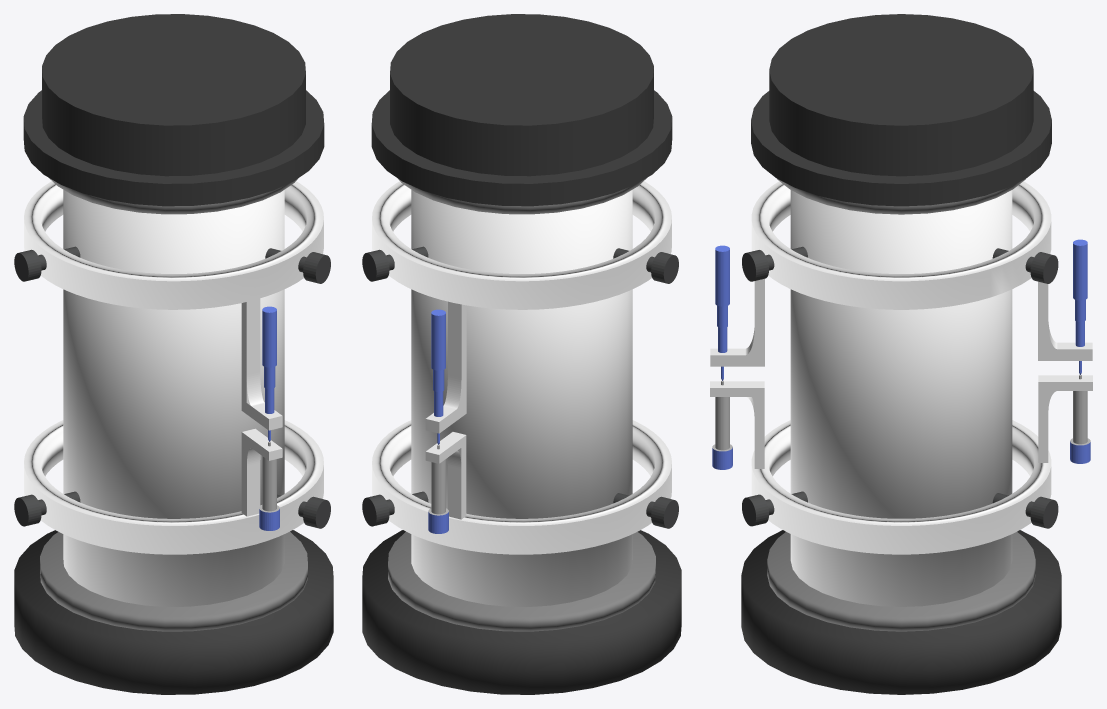
File: cilindro-nodos.gltf
3 renders of one model, left to right at view 1: azimuth 30°, elevation 25°; view 2: azimuth 150°, elevation 25°; view 3: azimuth 270°, elevation 25°, orthographic.
Visible parts, largest first — view 1: cilindroConcreto, apoyo_sup, compresometro, apoyo_inf, espuma_inf, espuma_sup; view 2: cilindroConcreto, apoyo_sup, compresometro, apoyo_inf, espuma_inf, espuma_sup; view 3: cilindroConcreto, apoyo_sup, compresometro, apoyo_inf, espuma_inf, espuma_sup.
Boxes of the visible parts, x1=… form: cilindroConcreto: x1=63, y1=190, x2=284, y2=606; apoyo_sup: x1=23, y1=14, x2=324, y2=206; compresometro: x1=14, y1=181, x2=330, y2=554; apoyo_inf: x1=14, y1=530, x2=333, y2=694; espuma_inf: x1=40, y1=531, x2=307, y2=631; espuma_sup: x1=49, y1=178, x2=298, y2=214; cilindroConcreto: x1=411, y1=190, x2=632, y2=606; apoyo_sup: x1=371, y1=14, x2=672, y2=206; compresometro: x1=362, y1=181, x2=678, y2=554; apoyo_inf: x1=362, y1=530, x2=681, y2=694; espuma_inf: x1=388, y1=531, x2=655, y2=631; espuma_sup: x1=397, y1=178, x2=646, y2=214; cilindroConcreto: x1=790, y1=190, x2=1012, y2=606; apoyo_sup: x1=751, y1=14, x2=1051, y2=206; compresometro: x1=710, y1=181, x2=1092, y2=554; apoyo_inf: x1=741, y1=530, x2=1061, y2=694; espuma_inf: x1=767, y1=532, x2=1035, y2=631; espuma_sup: x1=777, y1=178, x2=1025, y2=214.
Size of the model in its own units: 0.2263 by 0.4159 by 0.2589.
